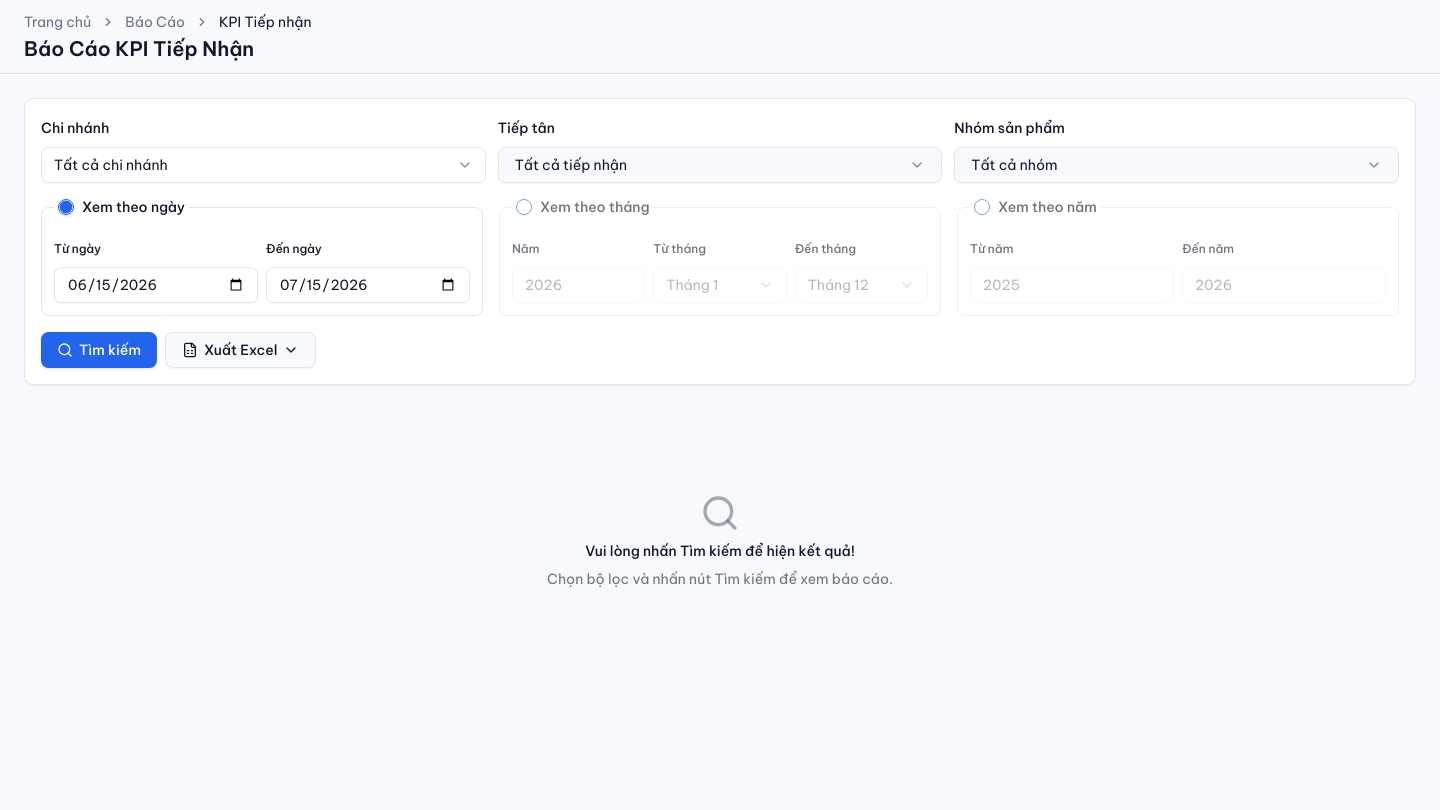
KpiTiepNhanReportPage › renders the exact Tiếp tân aging pivot after searching
Step 1. Click the button "Tìm kiếm" → click(99, 350), box [41, 332, 157, 368]
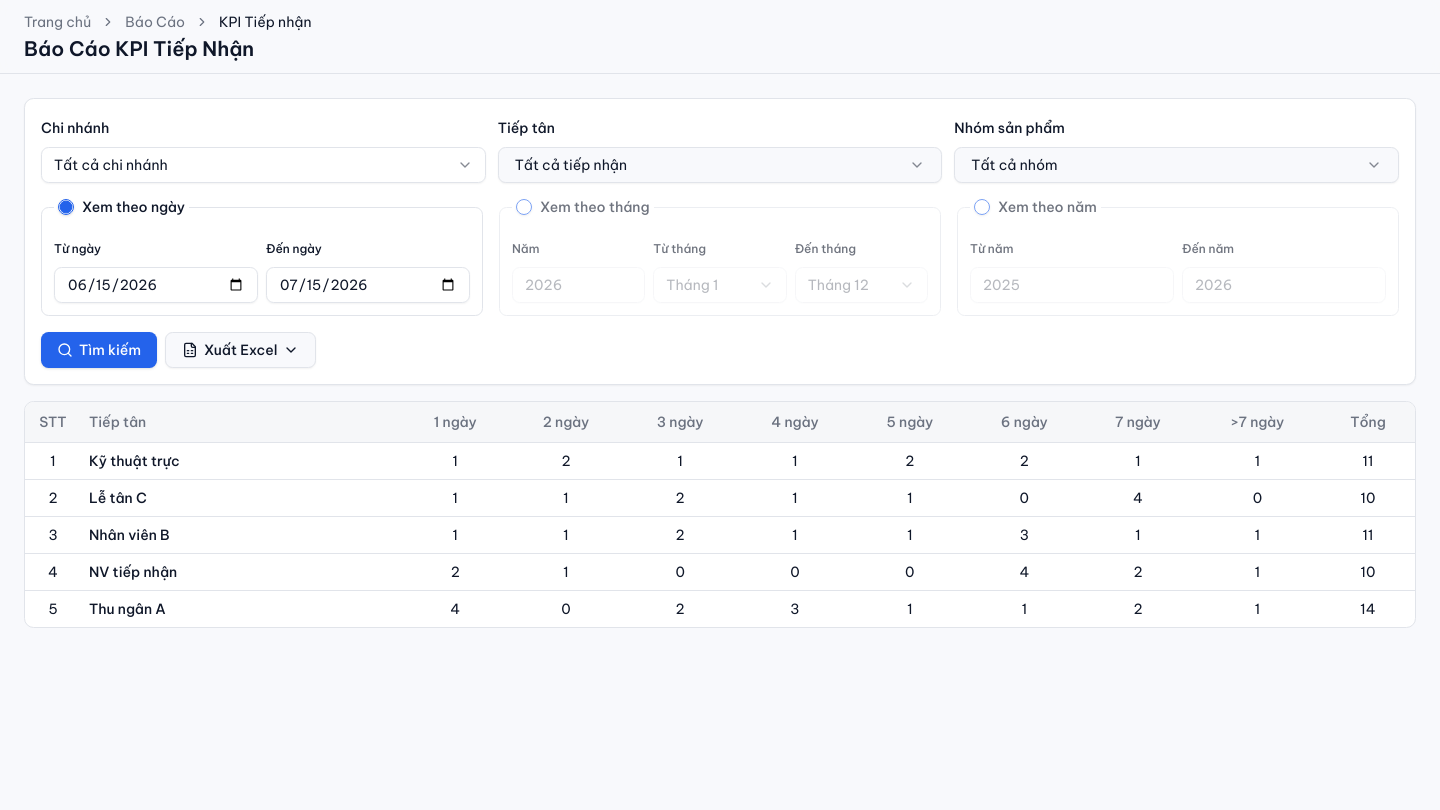
Expected: the column heading "Tiếp tân" is shown, [81, 402, 402, 442]
